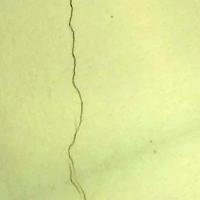crack: (45, 0, 101, 199)
